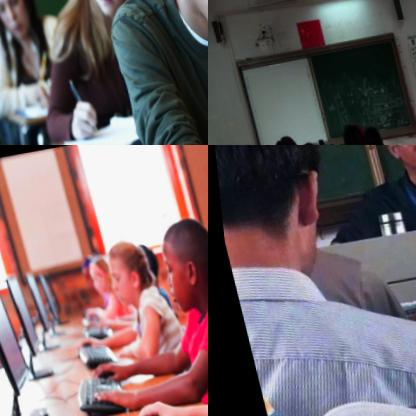head: (147, 214, 208, 323), (97, 238, 159, 308), (62, 0, 148, 23), (80, 253, 115, 297), (0, 0, 35, 43), (372, 145, 416, 174), (334, 124, 365, 145), (356, 122, 384, 145), (265, 131, 302, 145), (291, 136, 318, 145), (315, 139, 338, 145)
